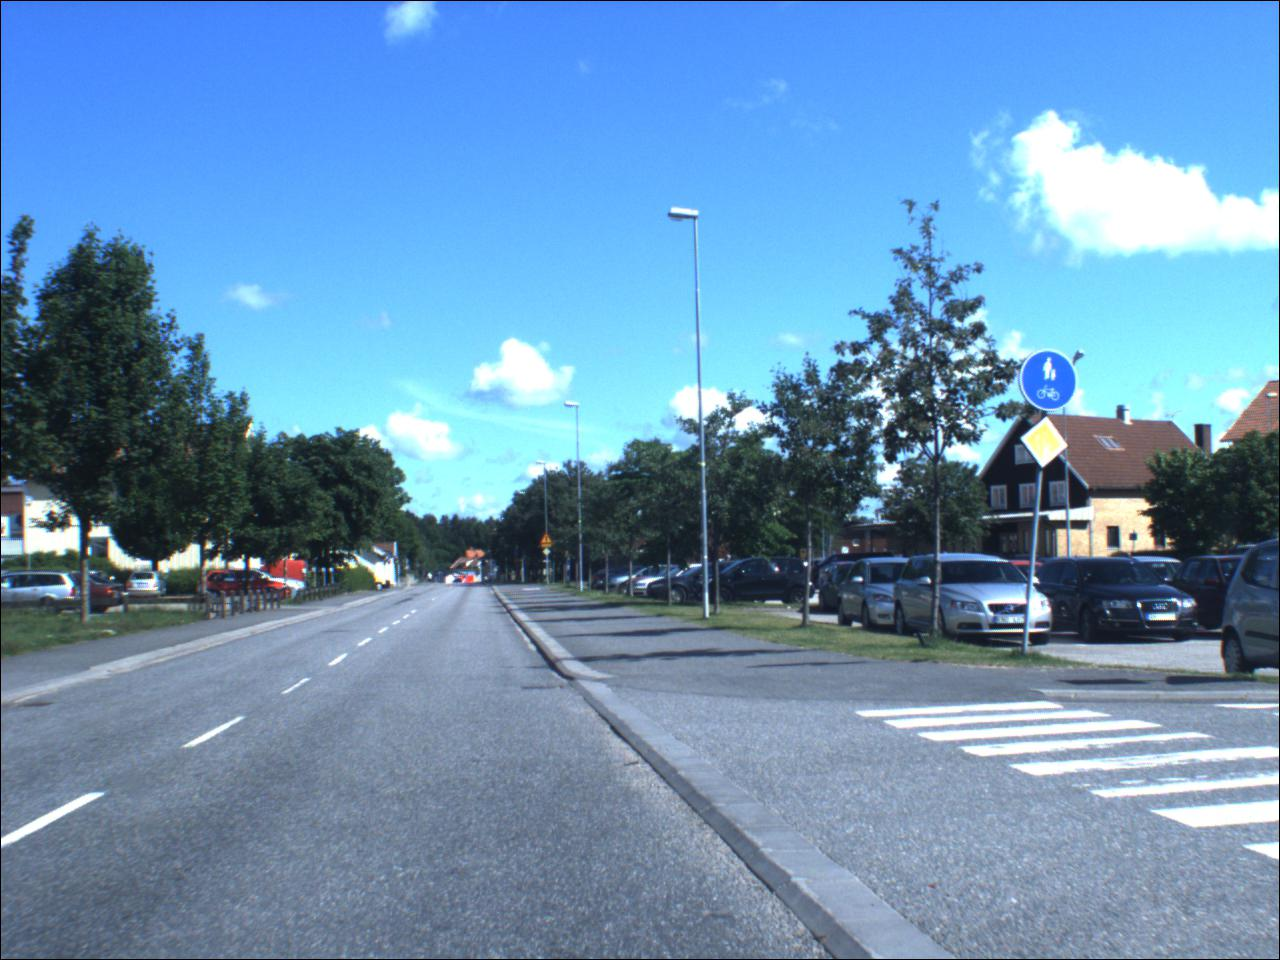PRIORITY_ROAD: (1020, 416, 1072, 470), (545, 549, 553, 558)
WARNING: (543, 535, 555, 548)
